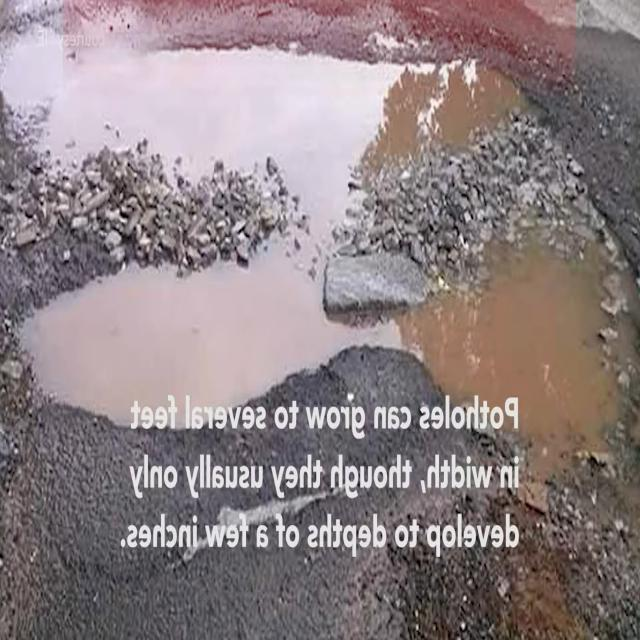Pothole: (4, 34, 633, 485)
